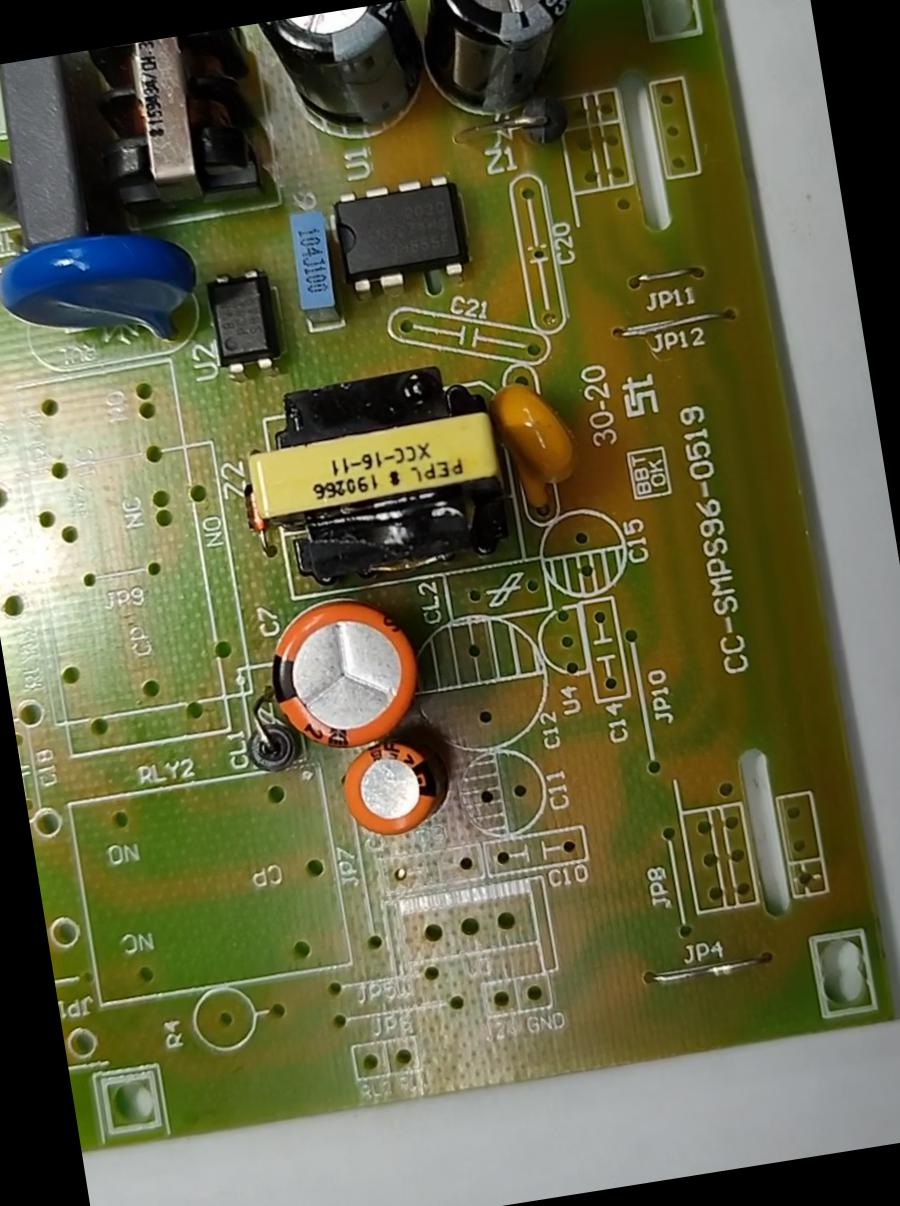Cap1: (252, 579, 436, 767)
Cap2: (327, 722, 456, 850)
Cap3: (249, 0, 438, 154)
Cap4: (408, 0, 608, 143)
MOSFET: (317, 158, 483, 310)
Mov: (0, 215, 217, 372)
Resistor: (0, 126, 34, 242)
Transformer: (231, 350, 525, 604), (77, 25, 284, 230)
